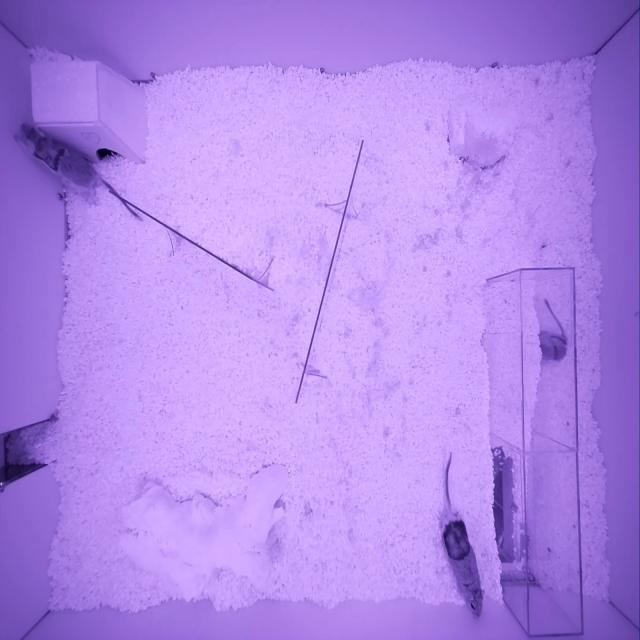adult_back: (441, 513, 485, 617)
adult_front: (15, 124, 98, 190)
pup_h_stripe: (537, 331, 568, 362)
